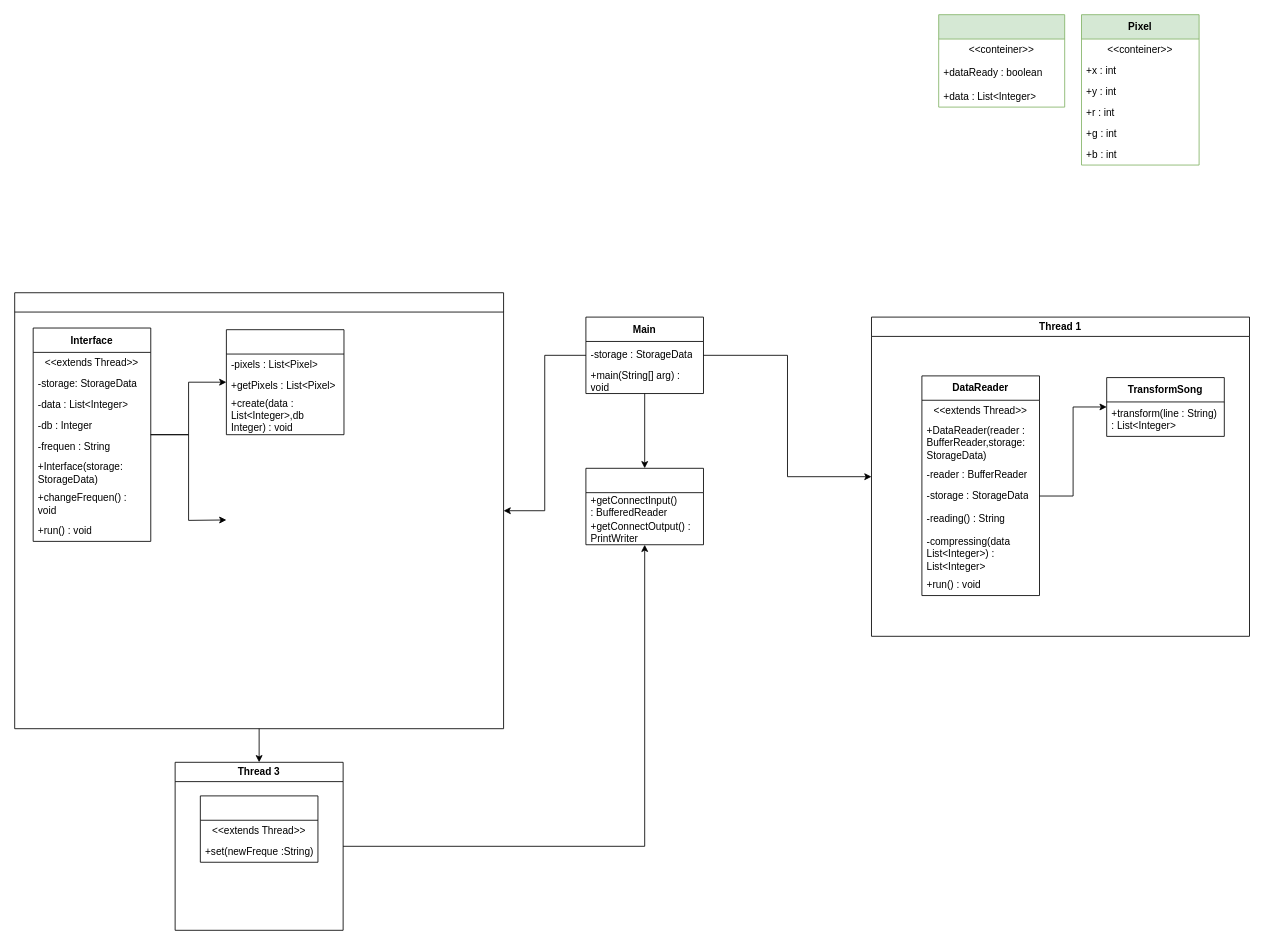
Some shapes in this 1264 by 945 pixel diagram are drawn without their labels. The box of each missing label's shape, as (x1, y1, x2, y2) in pixels:
GetConnection: (585, 467, 704, 545)
PixelGraphRadio: (226, 329, 344, 435)
SetFrequency: (200, 795, 318, 862)
Thread 2: (14, 292, 504, 729)
